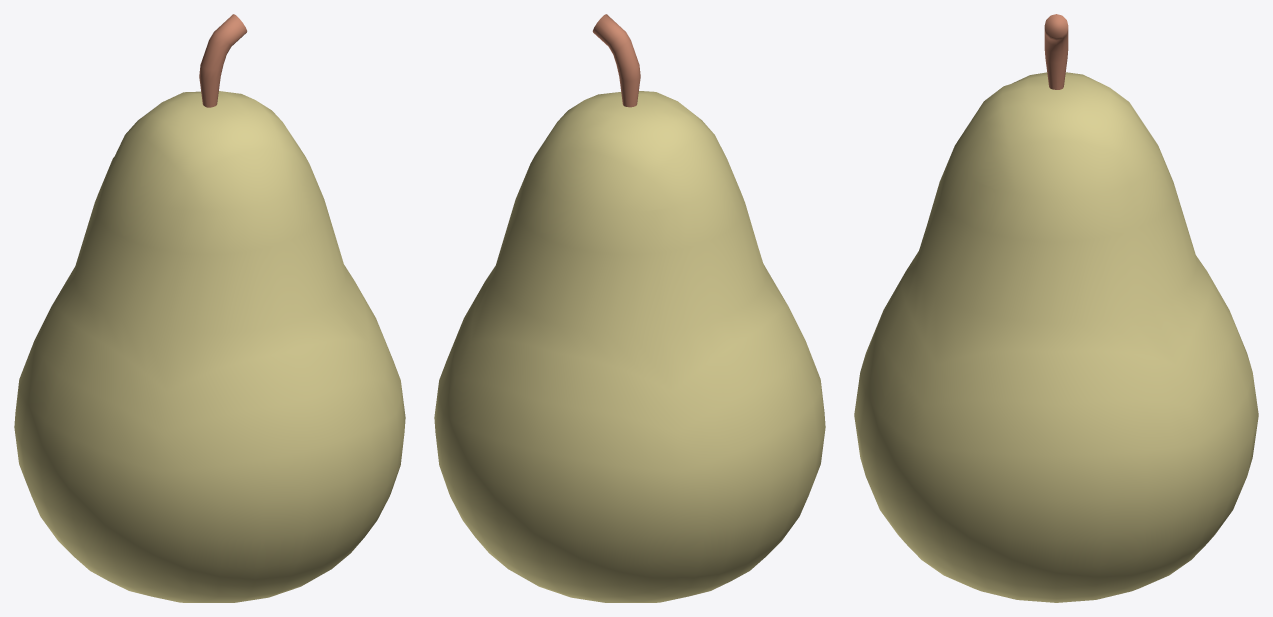
The model's file is Pear.fbx.
3 views of the same model, side by side, from view 1: azimuth 30°, elevation 25°; view 2: azimuth 150°, elevation 25°; view 3: azimuth 270°, elevation 25° (orthographic). The views are drawn at different scales.
Visible parts, largest first — view 1: Pear; view 2: Pear; view 3: Pear.
Boxes of the visible parts, <box> form: Pear: <box>14,14,405,602</box>; Pear: <box>434,14,825,602</box>; Pear: <box>854,14,1258,602</box>.
Bounding box in the file's own units: 0.228 × 0.3518 × 0.228.
